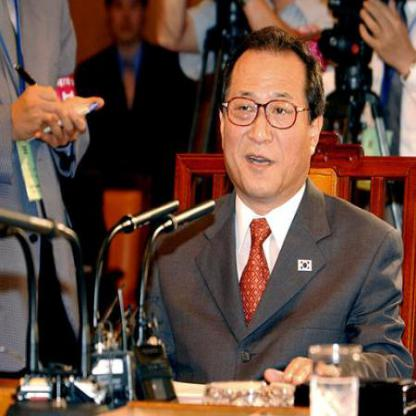face: (222, 36, 316, 201), (109, 1, 144, 42)
